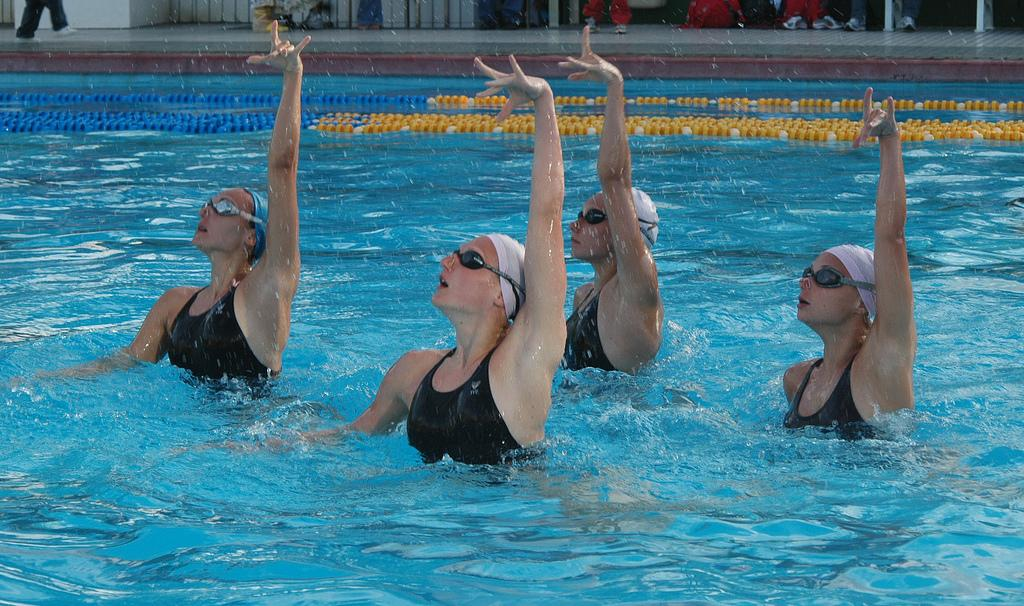face: (430, 235, 498, 304), (795, 251, 855, 321), (190, 186, 250, 247), (569, 191, 611, 258)
